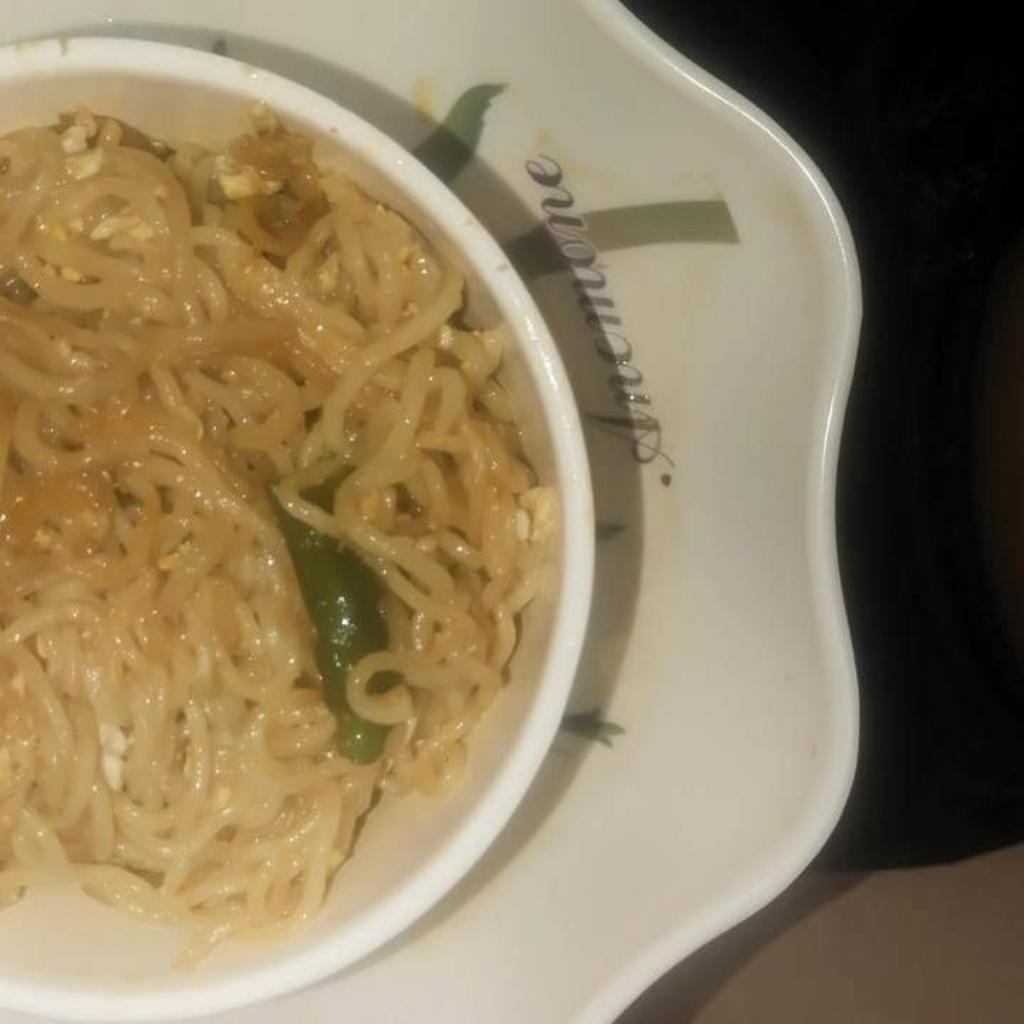noodles: (0, 104, 560, 966)
